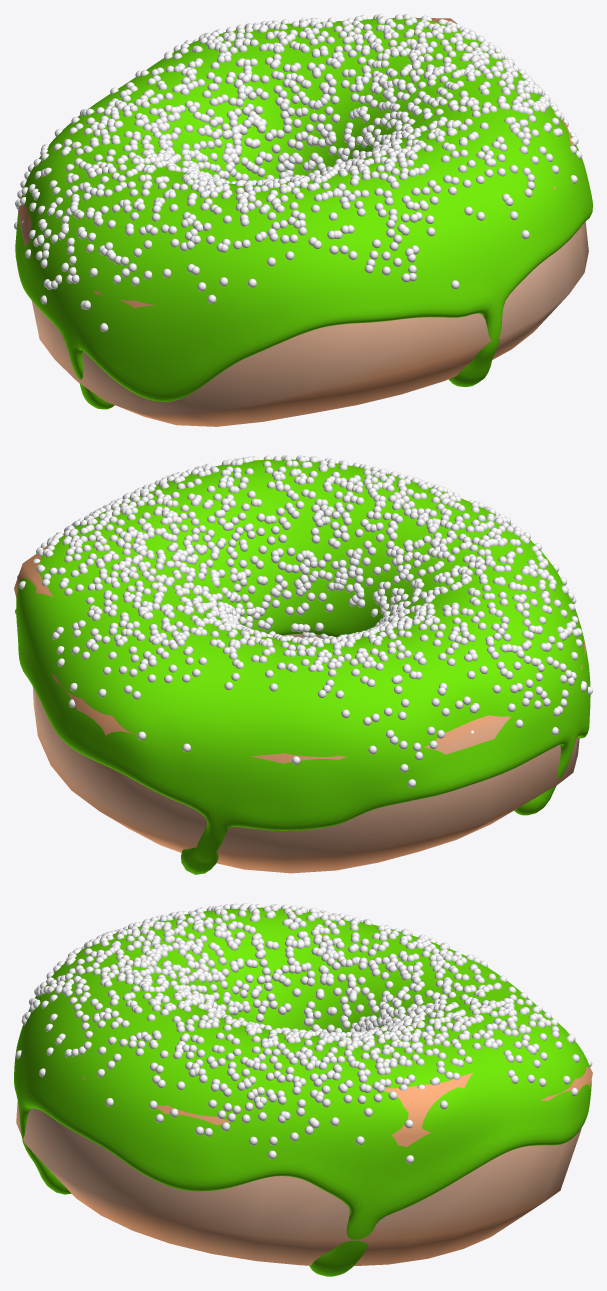
Rendered from single_donut.glb.
3 views of the same model, one above another, from view 1: azimuth 30°, elevation 25°; view 2: azimuth 150°, elevation 25°; view 3: azimuth 270°, elevation 25° (orthographic). The views are drawn at different scales.
Parts seen in each view (by area): view 1: Donut.011, Donut.010; view 2: Donut.011, Donut.010; view 3: Donut.011, Donut.010.
Boxes of the visible parts, left/top/right/bottom form: Donut.011: left=15, top=18, right=592, bottom=409; Donut.010: left=18, top=17, right=588, bottom=426; Donut.011: left=16, top=459, right=590, bottom=874; Donut.010: left=14, top=545, right=586, bottom=873; Donut.011: left=14, top=907, right=591, bottom=1276; Donut.010: left=16, top=1038, right=592, bottom=1265.
Bounding box in the file's own units: 0.1261 × 0.063 × 0.1277.
3 materials, 1 textured.
